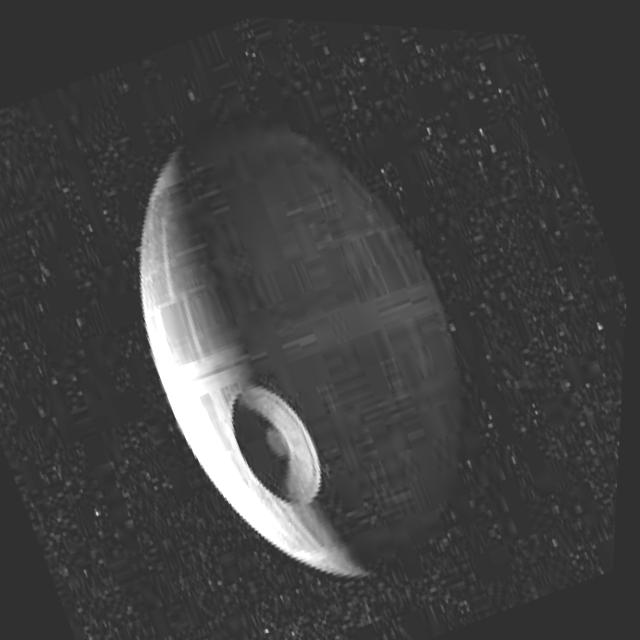death-stars: (142, 115, 468, 573)
